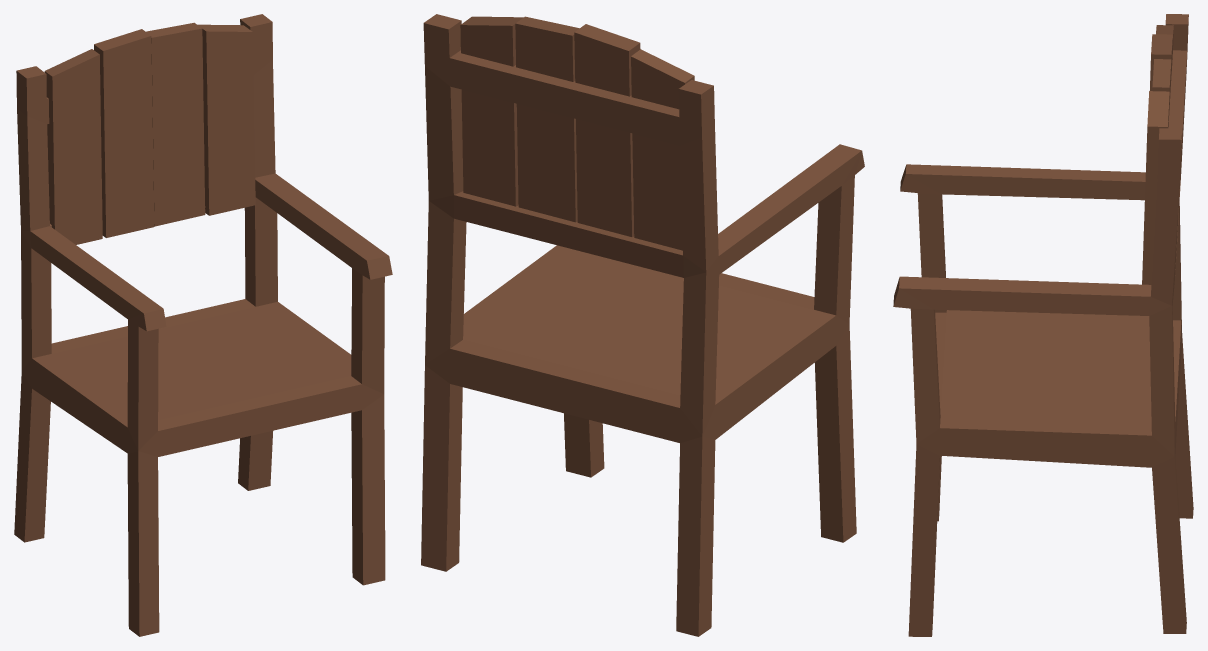
File: PP_Chair1.fbx
3 renders of one model, left to right at view 1: azimuth 30°, elevation 25°; view 2: azimuth 150°, elevation 25°; view 3: azimuth 270°, elevation 25°, orthographic. The views are drawn at different scales.
Parts seen in each view (by area): view 1: Chair_01; view 2: Chair_01; view 3: Chair_01.
Boxes of the visible parts, bbox=[...] form: Chair_01: bbox=[14, 14, 392, 636]; Chair_01: bbox=[421, 14, 864, 636]; Chair_01: bbox=[893, 14, 1193, 636].
Bounding box in the file's own units: 55.67 × 104 × 54.49.
